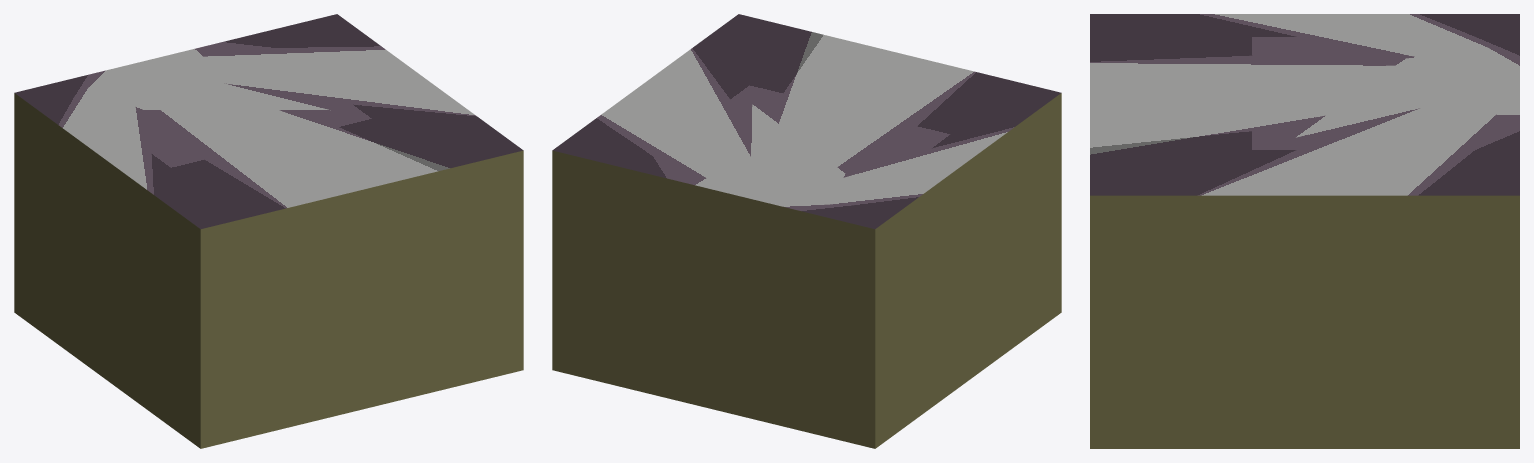
The model's file is tile_toxic_deep_6e_01.fbx.
3 renders of one model, left to right at view 1: azimuth 30°, elevation 25°; view 2: azimuth 150°, elevation 25°; view 3: azimuth 270°, elevation 25°, orthographic. The views are drawn at different scales.
Visible parts, largest first — view 1: tile_toxic_deep_6e_01; view 2: tile_toxic_deep_6e_01; view 3: tile_toxic_deep_6e_01.
Boxes of the visible parts, box(x1,y1,x2,y2) form: tile_toxic_deep_6e_01: box(14, 14, 523, 448); tile_toxic_deep_6e_01: box(552, 14, 1061, 448); tile_toxic_deep_6e_01: box(1090, 14, 1519, 448).
Bounding box in the file's own units: 100 × 65 × 100.
